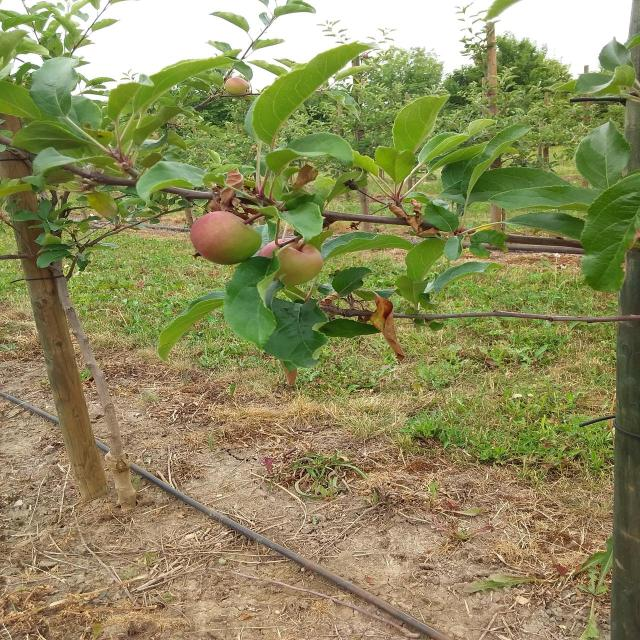-FireBlight-: (190, 162, 288, 230), (372, 292, 406, 352)
